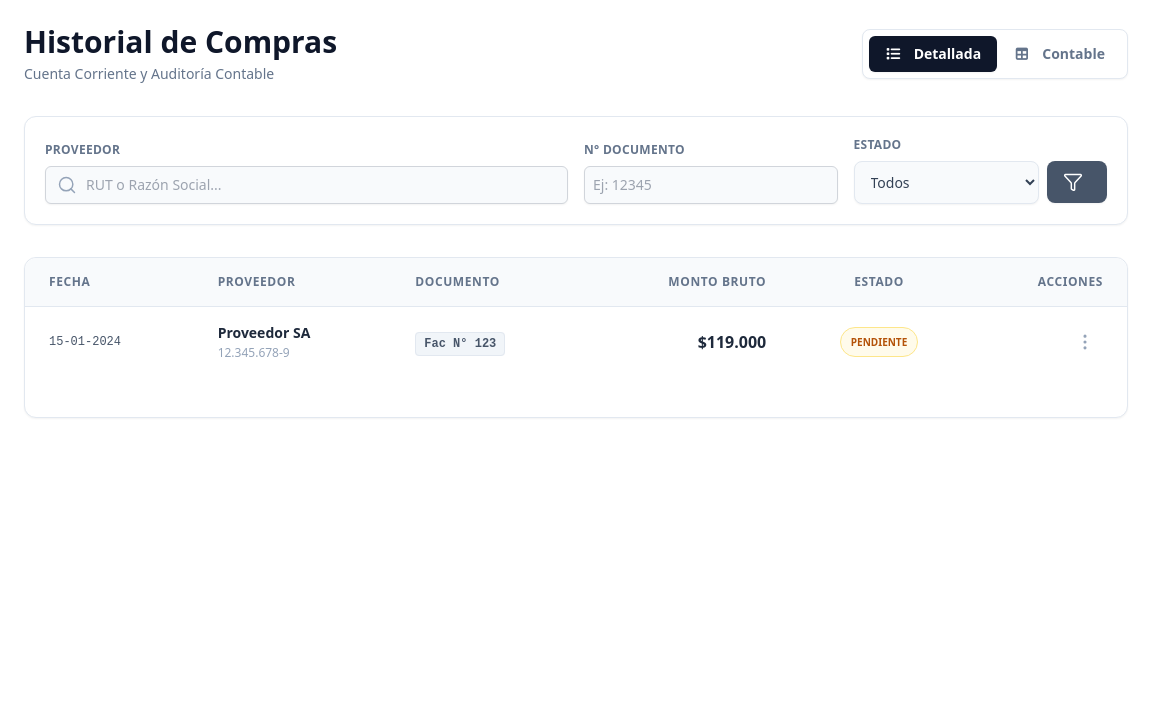
Test: HistorialFacturas (vista) › menú de opciones (3 puntos) › abre el menú de opciones al hacer click y muestra "Ver Asiento" (renderizado vía portal, fuera de la tabla con overflow-x-auto)
Expected: the text "Ver Asiento" is not shown
What coordinates should you click on to do the following:
click the button titled "Opciones"
I would click on:
 (1085, 342)
Its box is 1067,324 -> 1103,360.
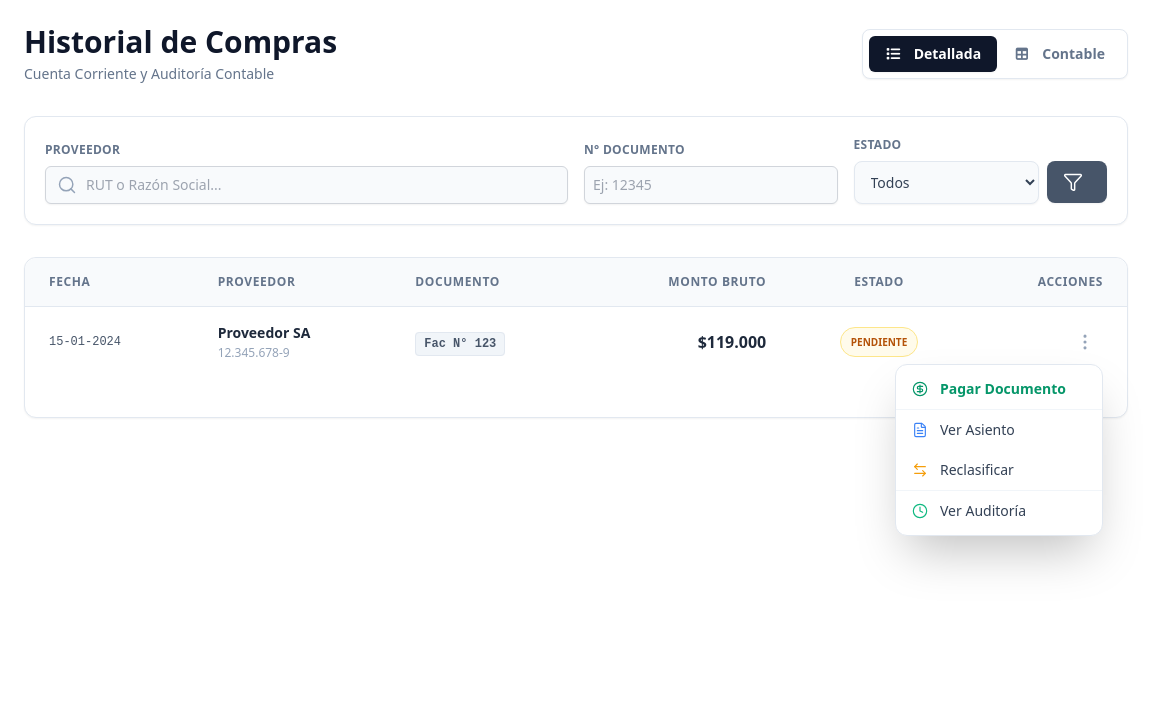
Expected: the text "Ver Asiento" is shown, 896,410 -> 1102,450
